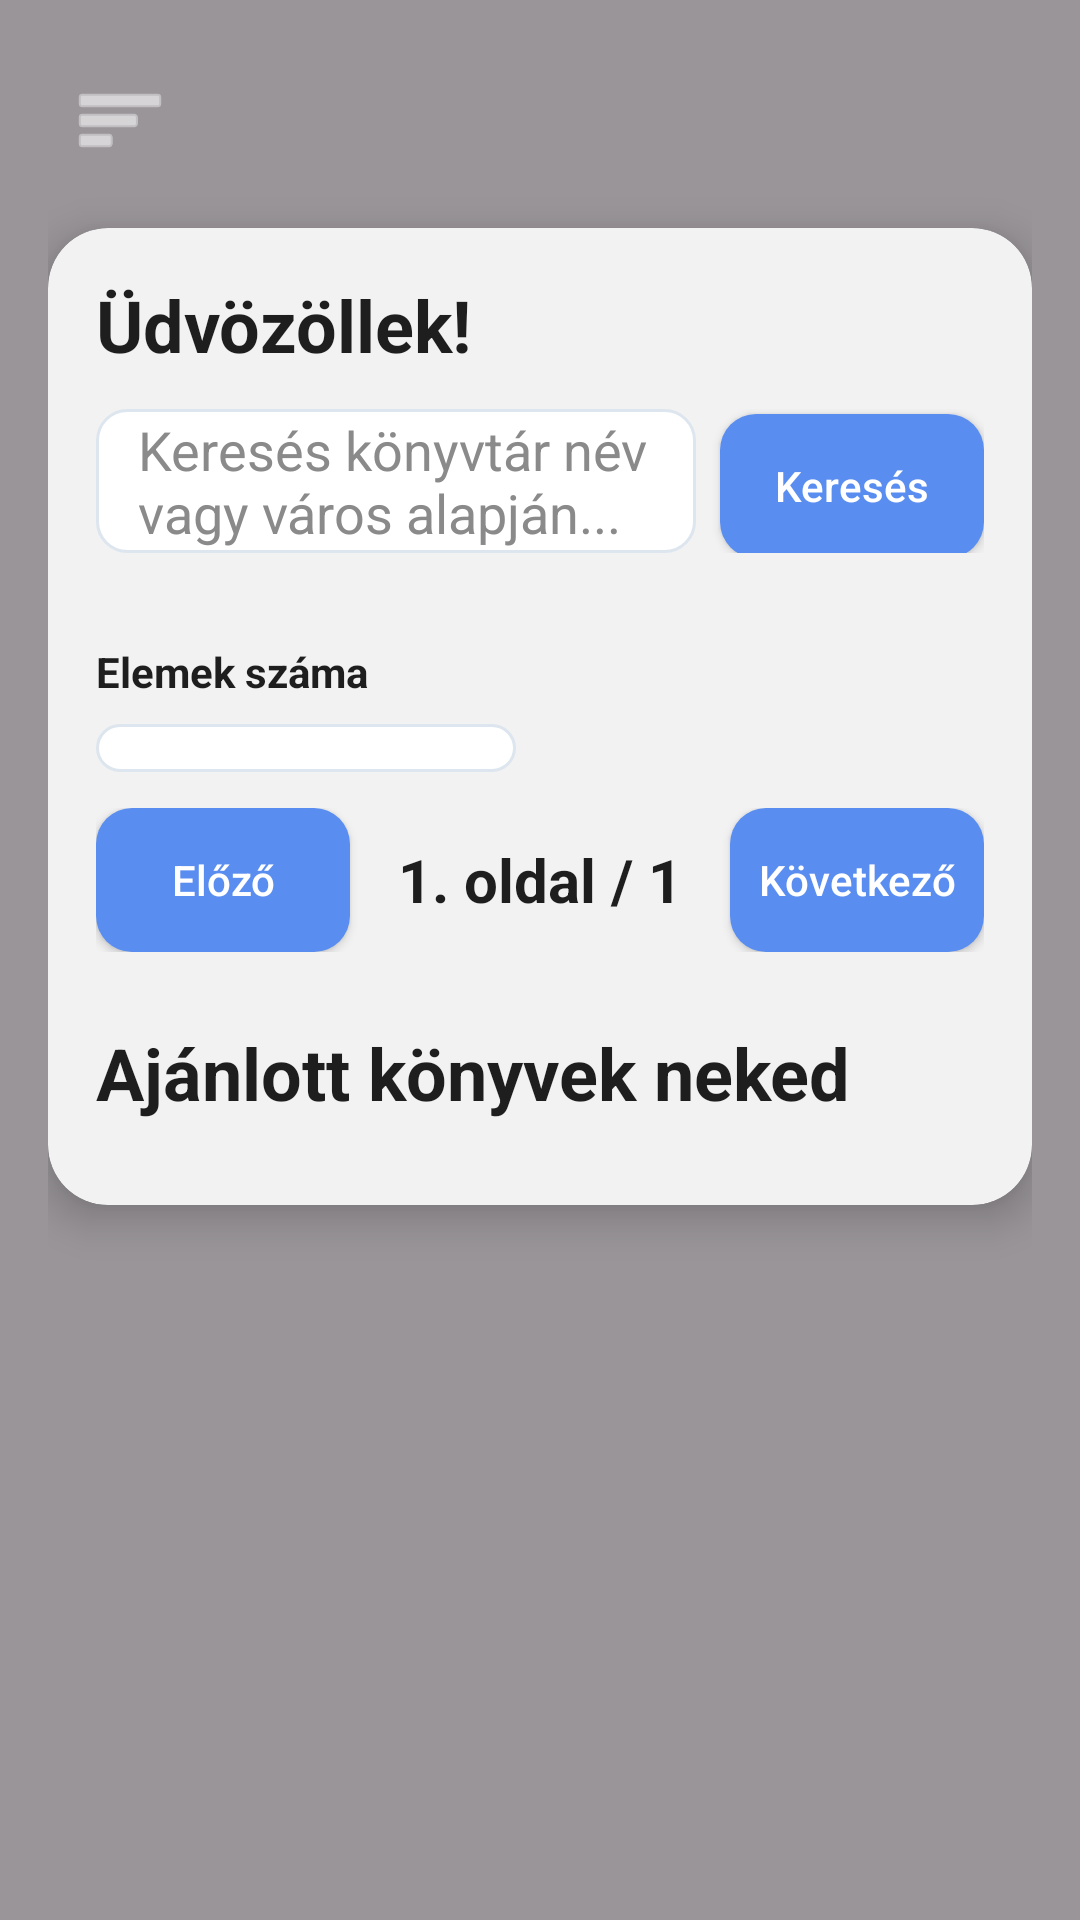

Locate icon controls on the screen. Image size 1080×1920, boxes as (x1, y1, x2, y2).
Menü: (79, 94, 161, 147)
